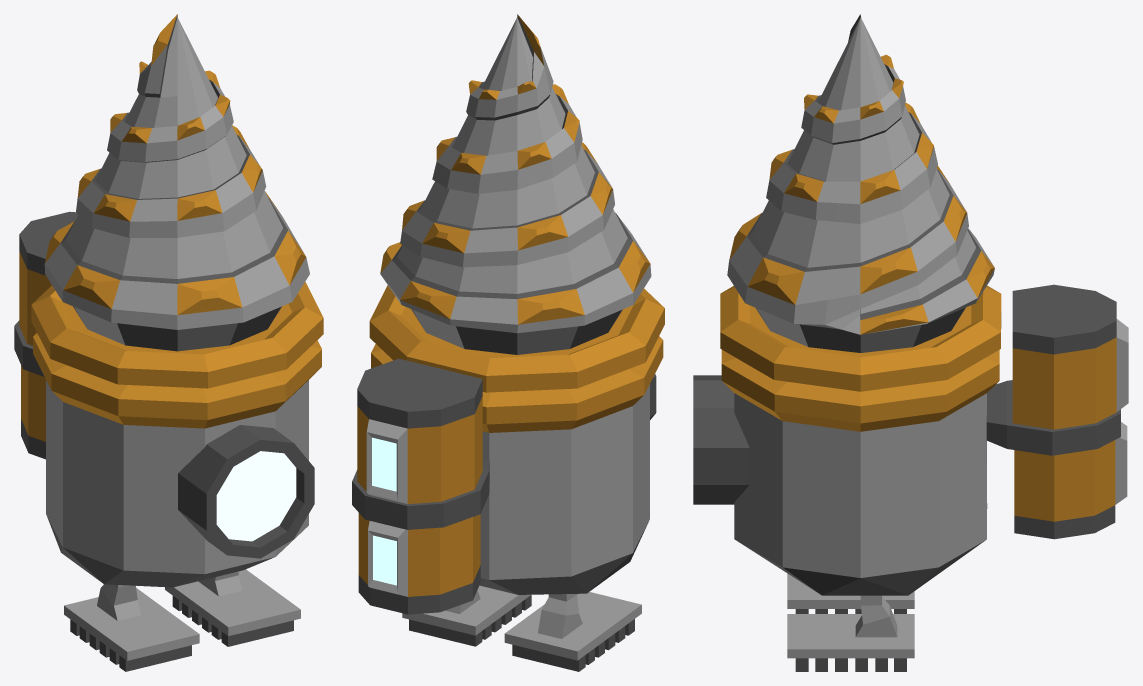
Rendered from driller.fbx.
3 renders of one model, left to right at view 1: azimuth 30°, elevation 25°; view 2: azimuth 150°, elevation 25°; view 3: azimuth 270°, elevation 25°, orthographic.
Visible parts, largest first — view 1: drillerBody, drillerBit, drillerLegRight, drillerLegLeft; view 2: drillerBody, drillerBit, drillerLegRight, drillerLegLeft; view 3: drillerBody, drillerBit, drillerLegLeft, drillerLegRight.
Part boxes in pixels (x1,y1,x2,y2): drillerBody: [14, 211, 323, 587]; drillerBit: [44, 14, 309, 351]; drillerLegRight: [64, 584, 199, 671]; drillerLegLeft: [165, 569, 300, 646]; drillerBody: [352, 285, 664, 614]; drillerBit: [380, 14, 651, 354]; drillerLegRight: [504, 592, 641, 671]; drillerLegLeft: [402, 585, 531, 646]; drillerBody: [693, 284, 1128, 595]; drillerBit: [727, 14, 994, 352]; drillerLegLeft: [787, 595, 914, 671]; drillerLegRight: [787, 573, 914, 613].
Size of the model in its own units: 211 by 486 by 311.
